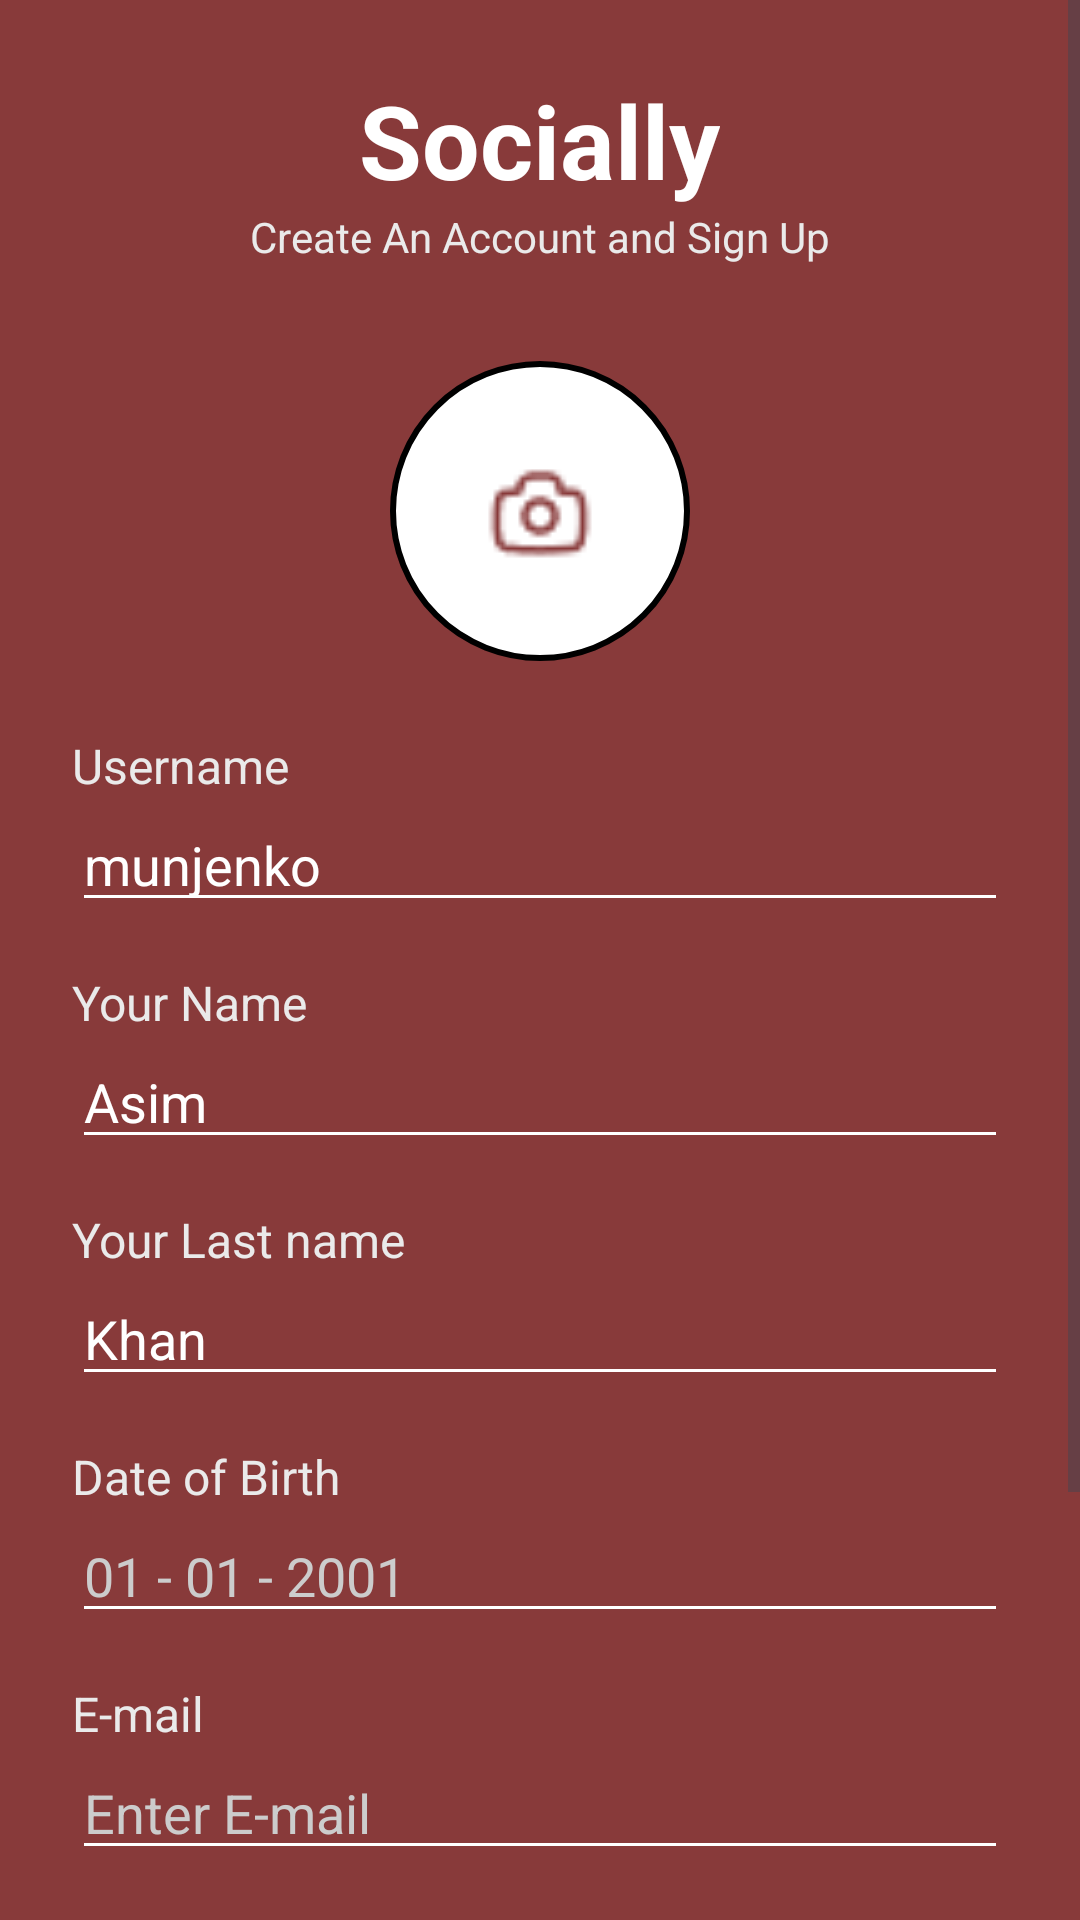

Screen size 1080*1920. Icon name, then its center in pixels as (x=x, y=y):
camera: (x=540, y=511)
